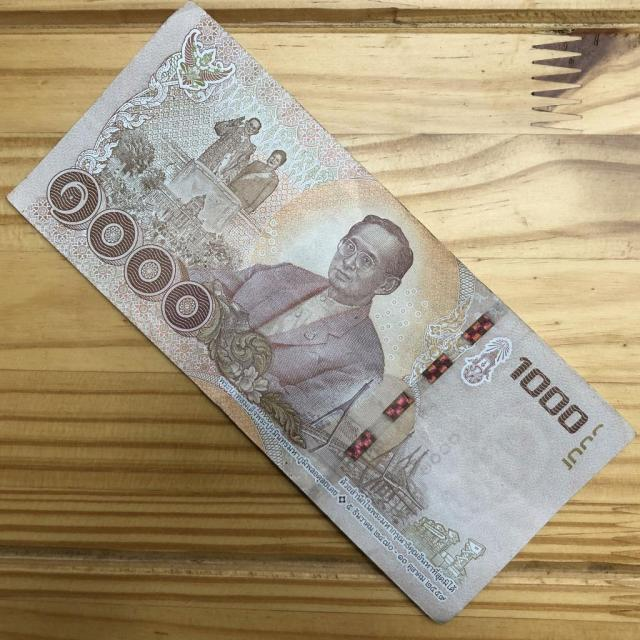THAI1000: (11, 5, 632, 621)
